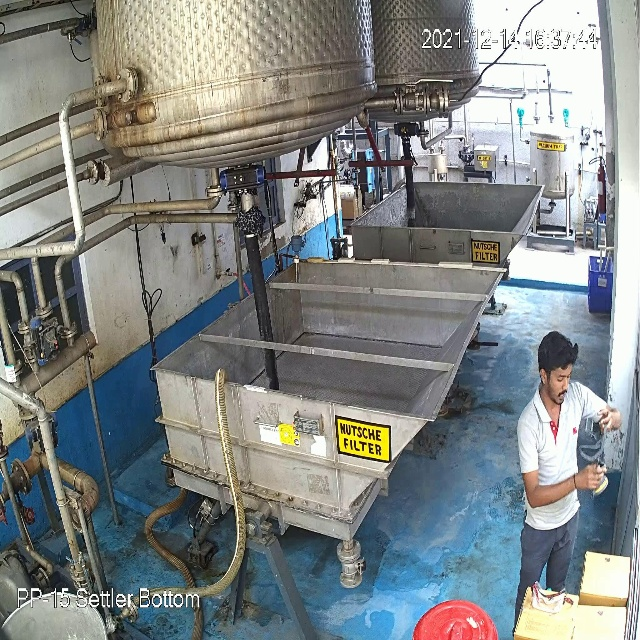Sin_gafas: (540, 366, 572, 389)
Sin_mascara: (542, 377, 572, 408)
